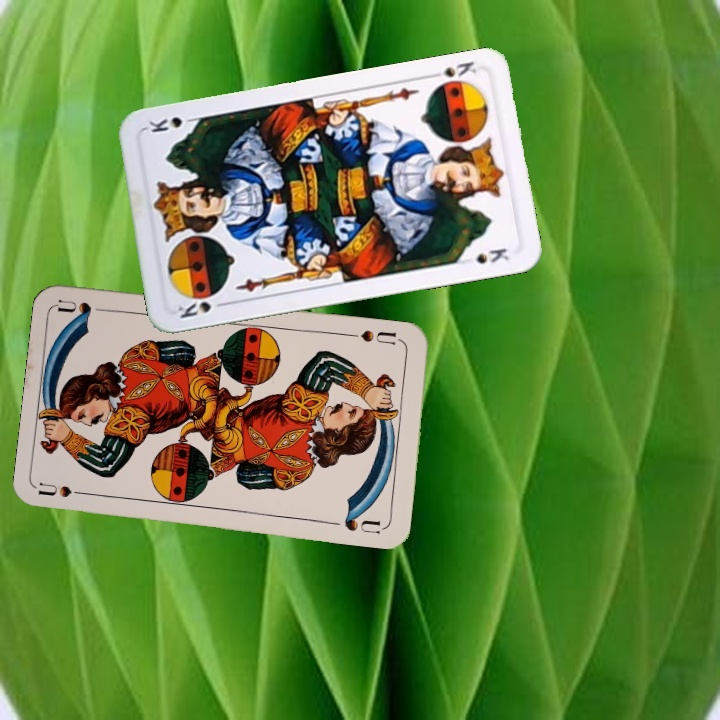SK: (173, 297, 231, 321), (425, 57, 479, 81)
SU: (36, 479, 96, 500), (346, 326, 405, 347)
